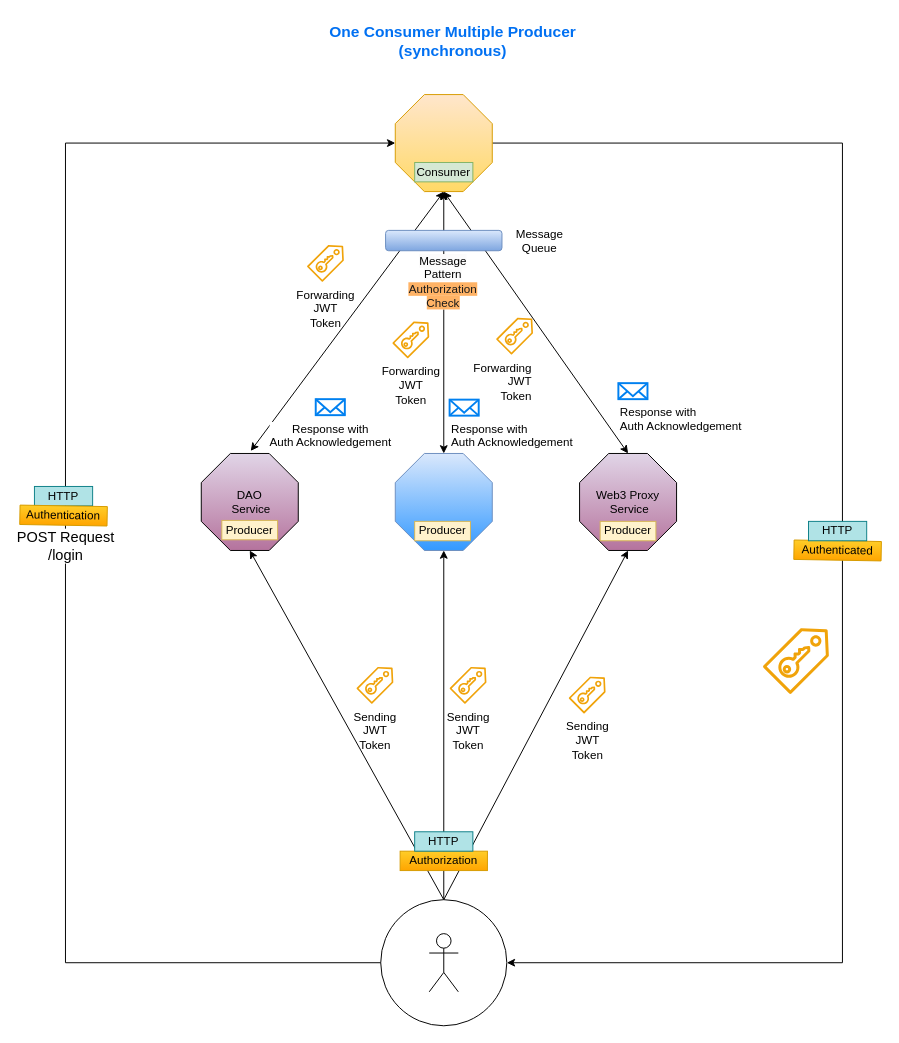
The diagram is 899 pixels wide and 1043 high, and some of its shapes have lost their labels. Here are the shapes that lost their labels. From the top down, the box of each, then its label:
(394, 94, 492, 192): User Management Service
(385, 229, 502, 251): TCP
(394, 453, 492, 550): Audit Trail Service
(762, 627, 829, 694): Response with JWT Token
(428, 933, 458, 992): Client
